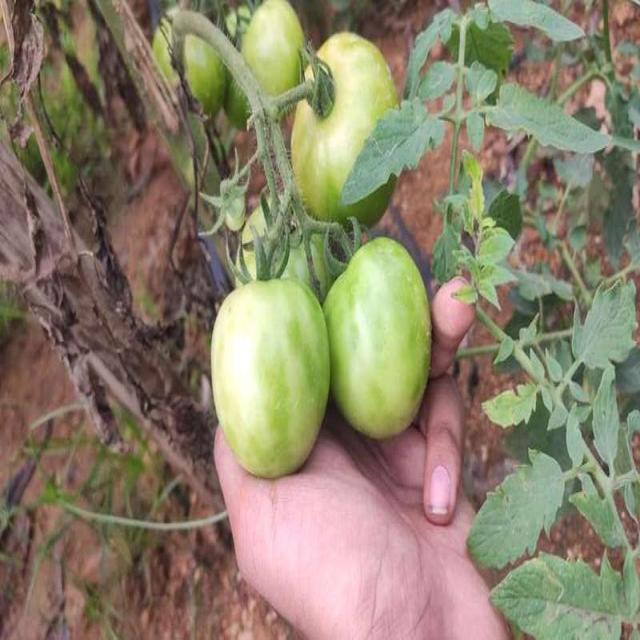Spotted wilt Virus Fruit: (141, 53, 220, 230)
